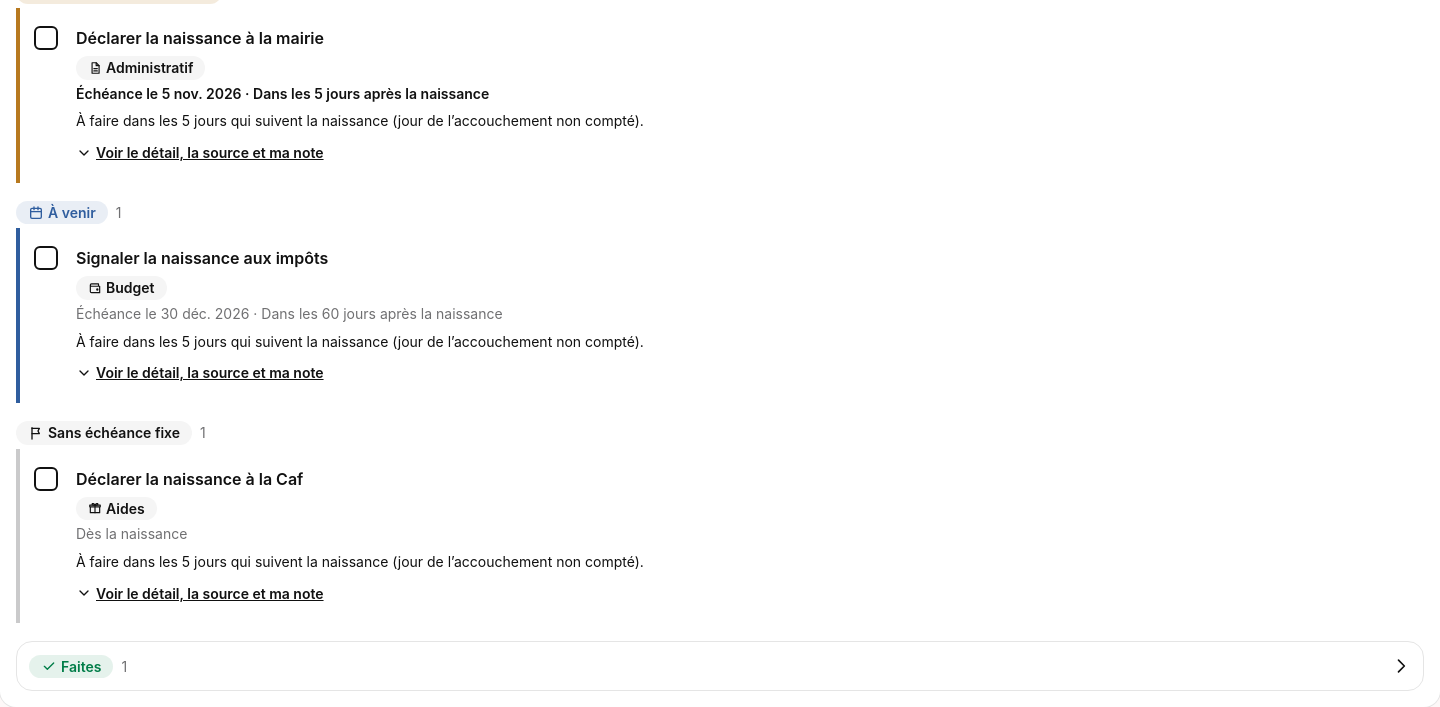
EvenementsPage › list › folds the done steps
(page scrolled)
Click the text "Faites": (71, 666) [29,655,114,678]
(page scrolled)
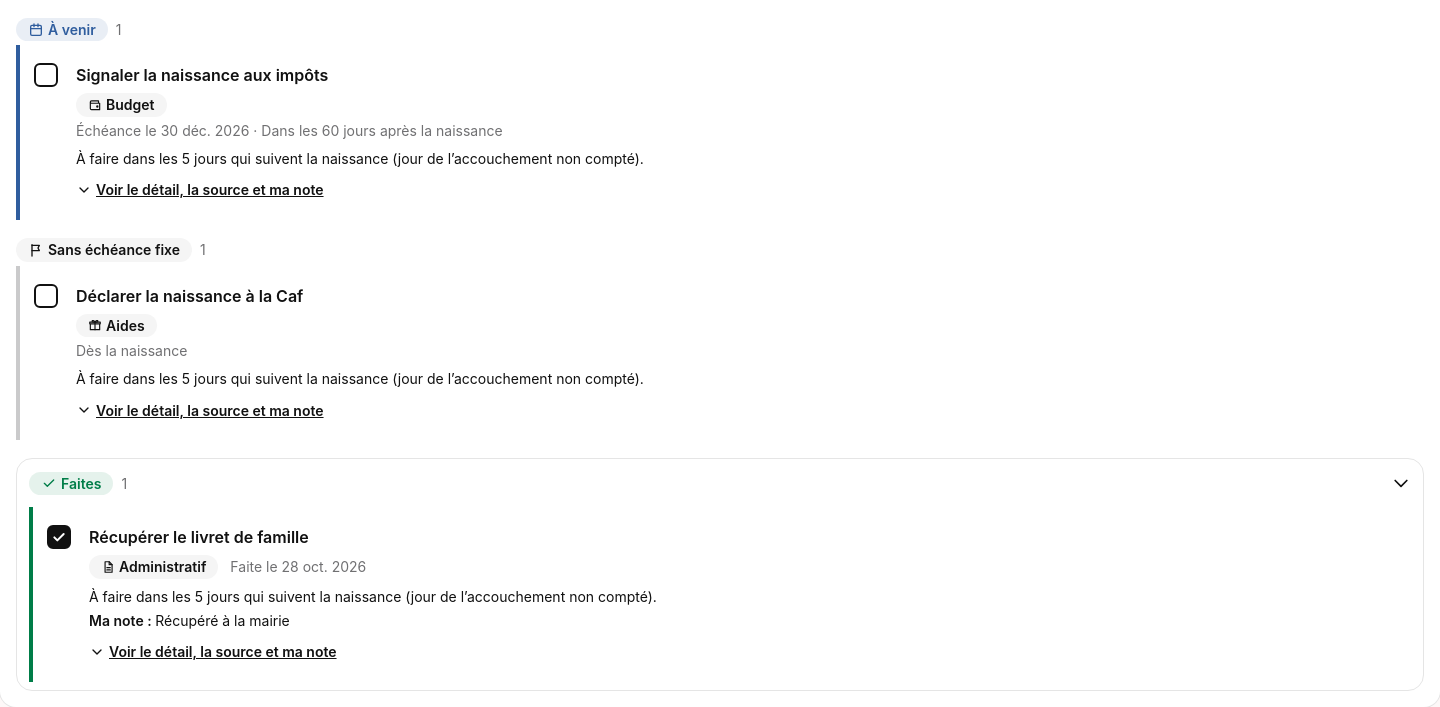
Now the list item with test id "life-step" shows "Récupérer le livret de famille", box [89,528,309,548]
Now the checkbox labelled "Récupérer le livret de famille" is checked, box [89,528,309,548]
Now the text "Faite le 28 oct. 2026" is shown, box [230,558,366,577]
